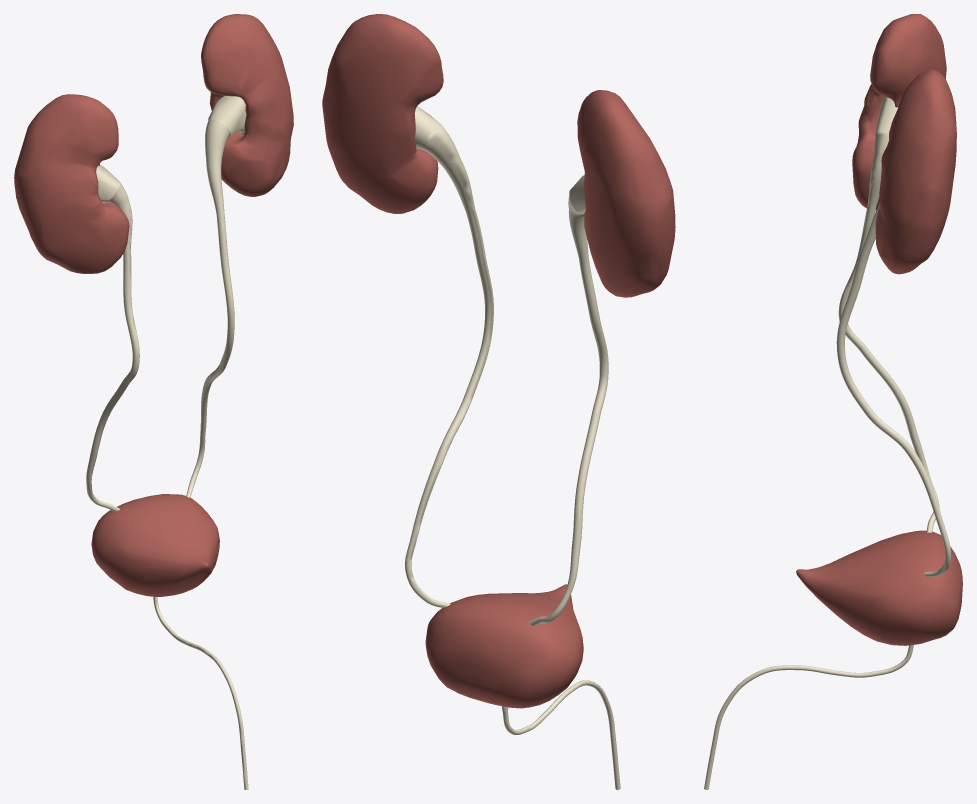
The model's file is adult_male.urinary.LOD0.glb.
3 views of the same model, side by side, from view 1: azimuth 30°, elevation 25°; view 2: azimuth 150°, elevation 25°; view 3: azimuth 270°, elevation 25° (orthographic). The views are drawn at different scales.
Visible parts, largest first — view 1: ADULT.MALE.URINARY.KIDNEY.R, ADULT.MALE.URINARY.KIDNEY.L, ADULT.MALE.URINARY.URINARY_BLADDER, ADULT.MALE.URINARY.URETER.L, ADULT.MALE.URINARY.URETER.R, ADULT.MALE.URINARY.URETHRA, ADULT.MALE.URINARY.RENAL_PELVIS.L, ADULT.MALE.URINARY.RENAL_PELVIS.R; view 2: ADULT.MALE.URINARY.KIDNEY.L, ADULT.MALE.URINARY.KIDNEY.R, ADULT.MALE.URINARY.URINARY_BLADDER, ADULT.MALE.URINARY.URETER.L, ADULT.MALE.URINARY.URETER.R, ADULT.MALE.URINARY.URETHRA, ADULT.MALE.URINARY.RENAL_PELVIS.L; view 3: ADULT.MALE.URINARY.URINARY_BLADDER, ADULT.MALE.URINARY.KIDNEY.L, ADULT.MALE.URINARY.KIDNEY.R, ADULT.MALE.URINARY.URETER.L, ADULT.MALE.URINARY.URETER.R, ADULT.MALE.URINARY.URETHRA, ADULT.MALE.URINARY.RENAL_PELVIS.R.
Part boxes in pixels (left/top/right/bottom): ADULT.MALE.URINARY.KIDNEY.R: left=14, top=94, right=129, bottom=273; ADULT.MALE.URINARY.KIDNEY.L: left=201, top=14, right=293, bottom=196; ADULT.MALE.URINARY.URINARY_BLADDER: left=91, top=494, right=219, bottom=596; ADULT.MALE.URINARY.URETER.L: left=186, top=119, right=234, bottom=497; ADULT.MALE.URINARY.URETER.R: left=86, top=181, right=139, bottom=511; ADULT.MALE.URINARY.URETHRA: left=153, top=597, right=248, bottom=789; ADULT.MALE.URINARY.RENAL_PELVIS.L: left=208, top=96, right=246, bottom=134; ADULT.MALE.URINARY.RENAL_PELVIS.R: left=96, top=165, right=119, bottom=202; ADULT.MALE.URINARY.KIDNEY.L: left=322, top=14, right=443, bottom=213; ADULT.MALE.URINARY.KIDNEY.R: left=577, top=90, right=675, bottom=297; ADULT.MALE.URINARY.URINARY_BLADDER: left=425, top=584, right=583, bottom=708; ADULT.MALE.URINARY.URETER.L: left=405, top=122, right=493, bottom=607; ADULT.MALE.URINARY.URETER.R: left=529, top=196, right=608, bottom=625; ADULT.MALE.URINARY.URETHRA: left=502, top=680, right=620, bottom=789; ADULT.MALE.URINARY.RENAL_PELVIS.L: left=414, top=106, right=438, bottom=149; ADULT.MALE.URINARY.URINARY_BLADDER: left=796, top=530, right=962, bottom=645; ADULT.MALE.URINARY.KIDNEY.L: left=875, top=69, right=956, bottom=274; ADULT.MALE.URINARY.KIDNEY.R: left=852, top=14, right=946, bottom=210; ADULT.MALE.URINARY.URETER.L: left=836, top=202, right=950, bottom=576; ADULT.MALE.URINARY.URETER.R: left=838, top=132, right=939, bottom=532; ADULT.MALE.URINARY.URETHRA: left=704, top=645, right=913, bottom=789; ADULT.MALE.URINARY.RENAL_PELVIS.R: left=875, top=96, right=897, bottom=133.
Size of the model in its own units: 0.1781 by 0.4203 by 0.1293.
